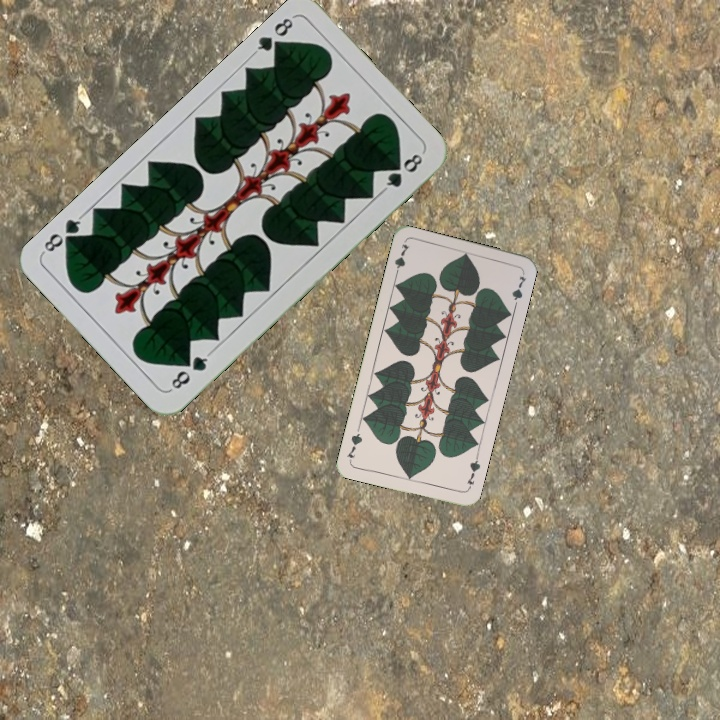G7: (390, 240, 412, 280), (462, 452, 483, 492)
G8: (249, 12, 296, 59), (166, 348, 213, 393)
